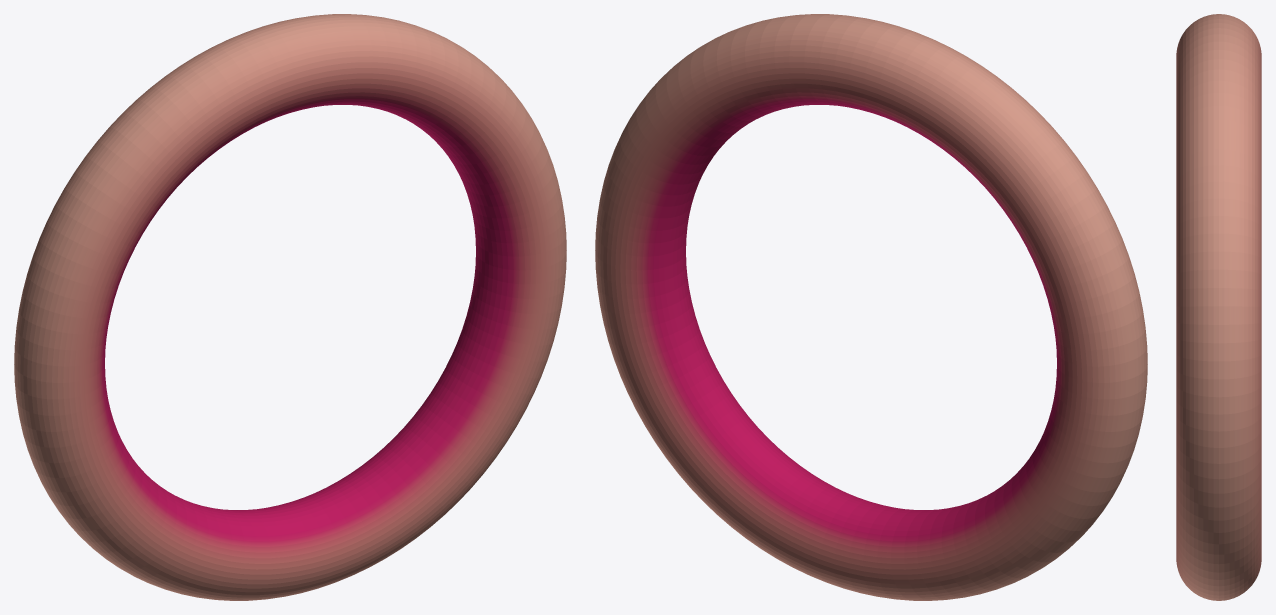
The picture shows the model from 3 angles, left to right: view 1: azimuth 30°, elevation 25°; view 2: azimuth 150°, elevation 25°; view 3: azimuth 270°, elevation 25°; orthographic projection. The views are drawn at different scales.
Visible parts, largest first — view 1: world; view 2: world; view 3: world.
Part boxes in pixels (x1,y1,x2,y2): world: (14,14,566,600); world: (595,14,1147,600); world: (1176,14,1261,600).
Bounding box in the file's own units: 21.07 × 21.07 × 3.06.
